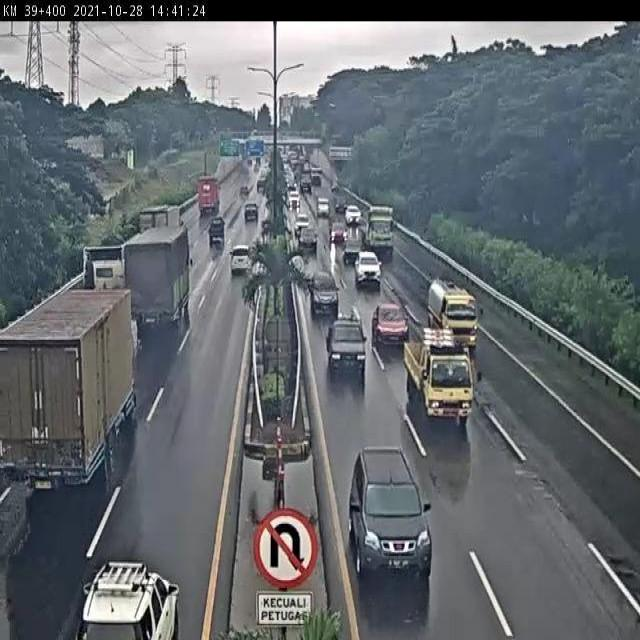big truck: (74, 242, 130, 314)
car: (345, 446, 434, 586), (77, 561, 181, 640), (326, 314, 366, 378), (371, 303, 411, 352), (309, 270, 340, 314), (355, 250, 383, 286), (228, 243, 253, 272)
mid truck: (0, 286, 139, 494), (122, 225, 194, 331), (134, 208, 181, 252)
truck-m-: (404, 329, 477, 431), (426, 279, 479, 356)
